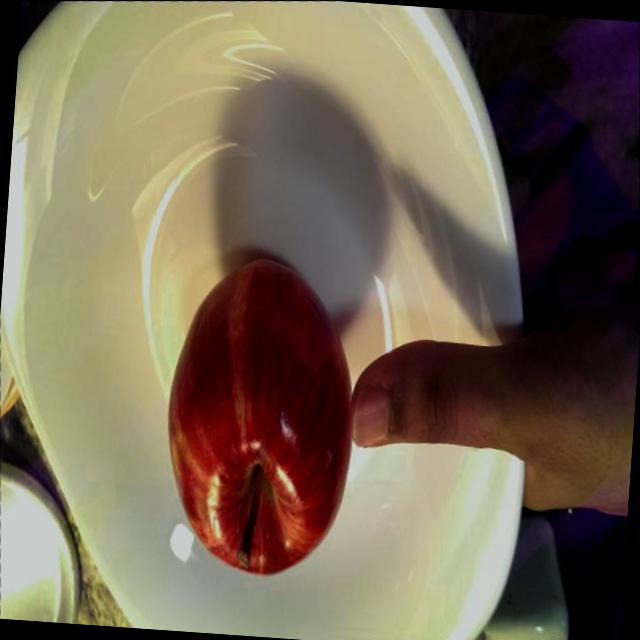Apple: (141, 234, 377, 592)
Finger: (340, 321, 490, 466)
